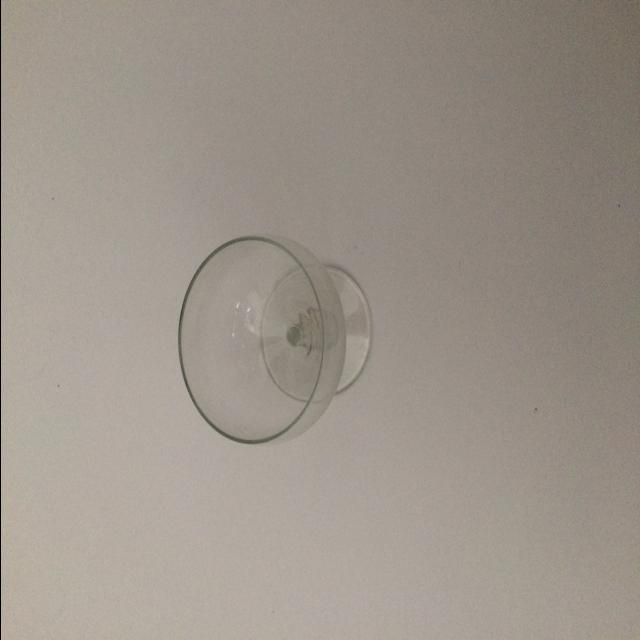glass: (177, 231, 369, 451)
